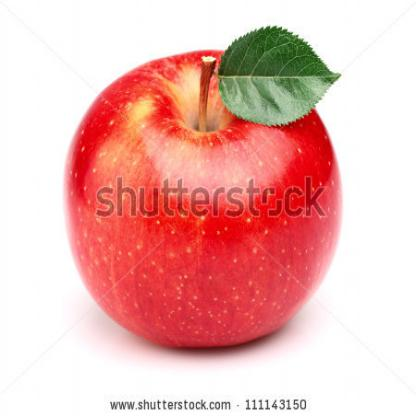apple leaf: (214, 20, 351, 132)
